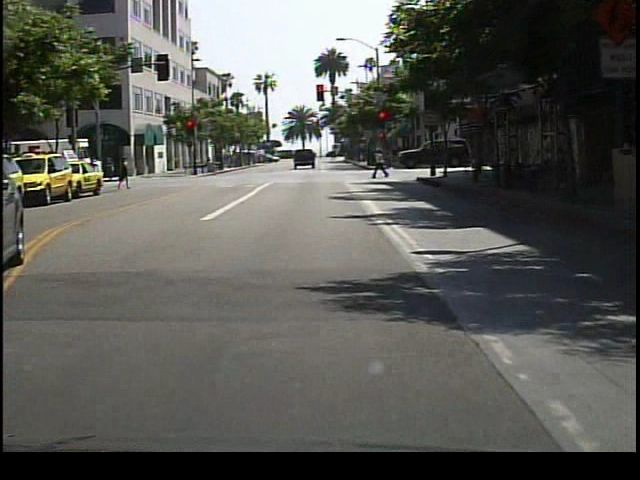person: (468, 138, 487, 182), (373, 147, 392, 180), (116, 157, 132, 192)
